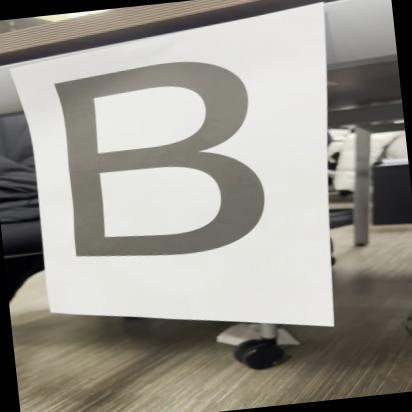seat: (32, 49, 314, 274)
